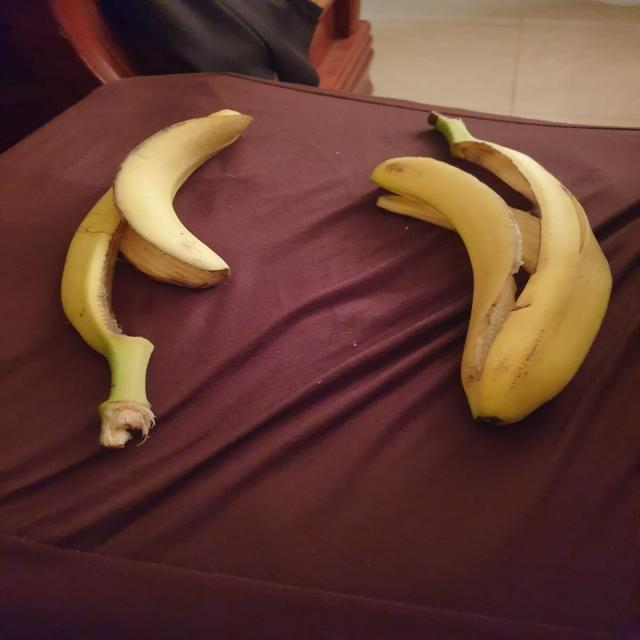banana-peel: (370, 109, 613, 427), (59, 106, 253, 449)
